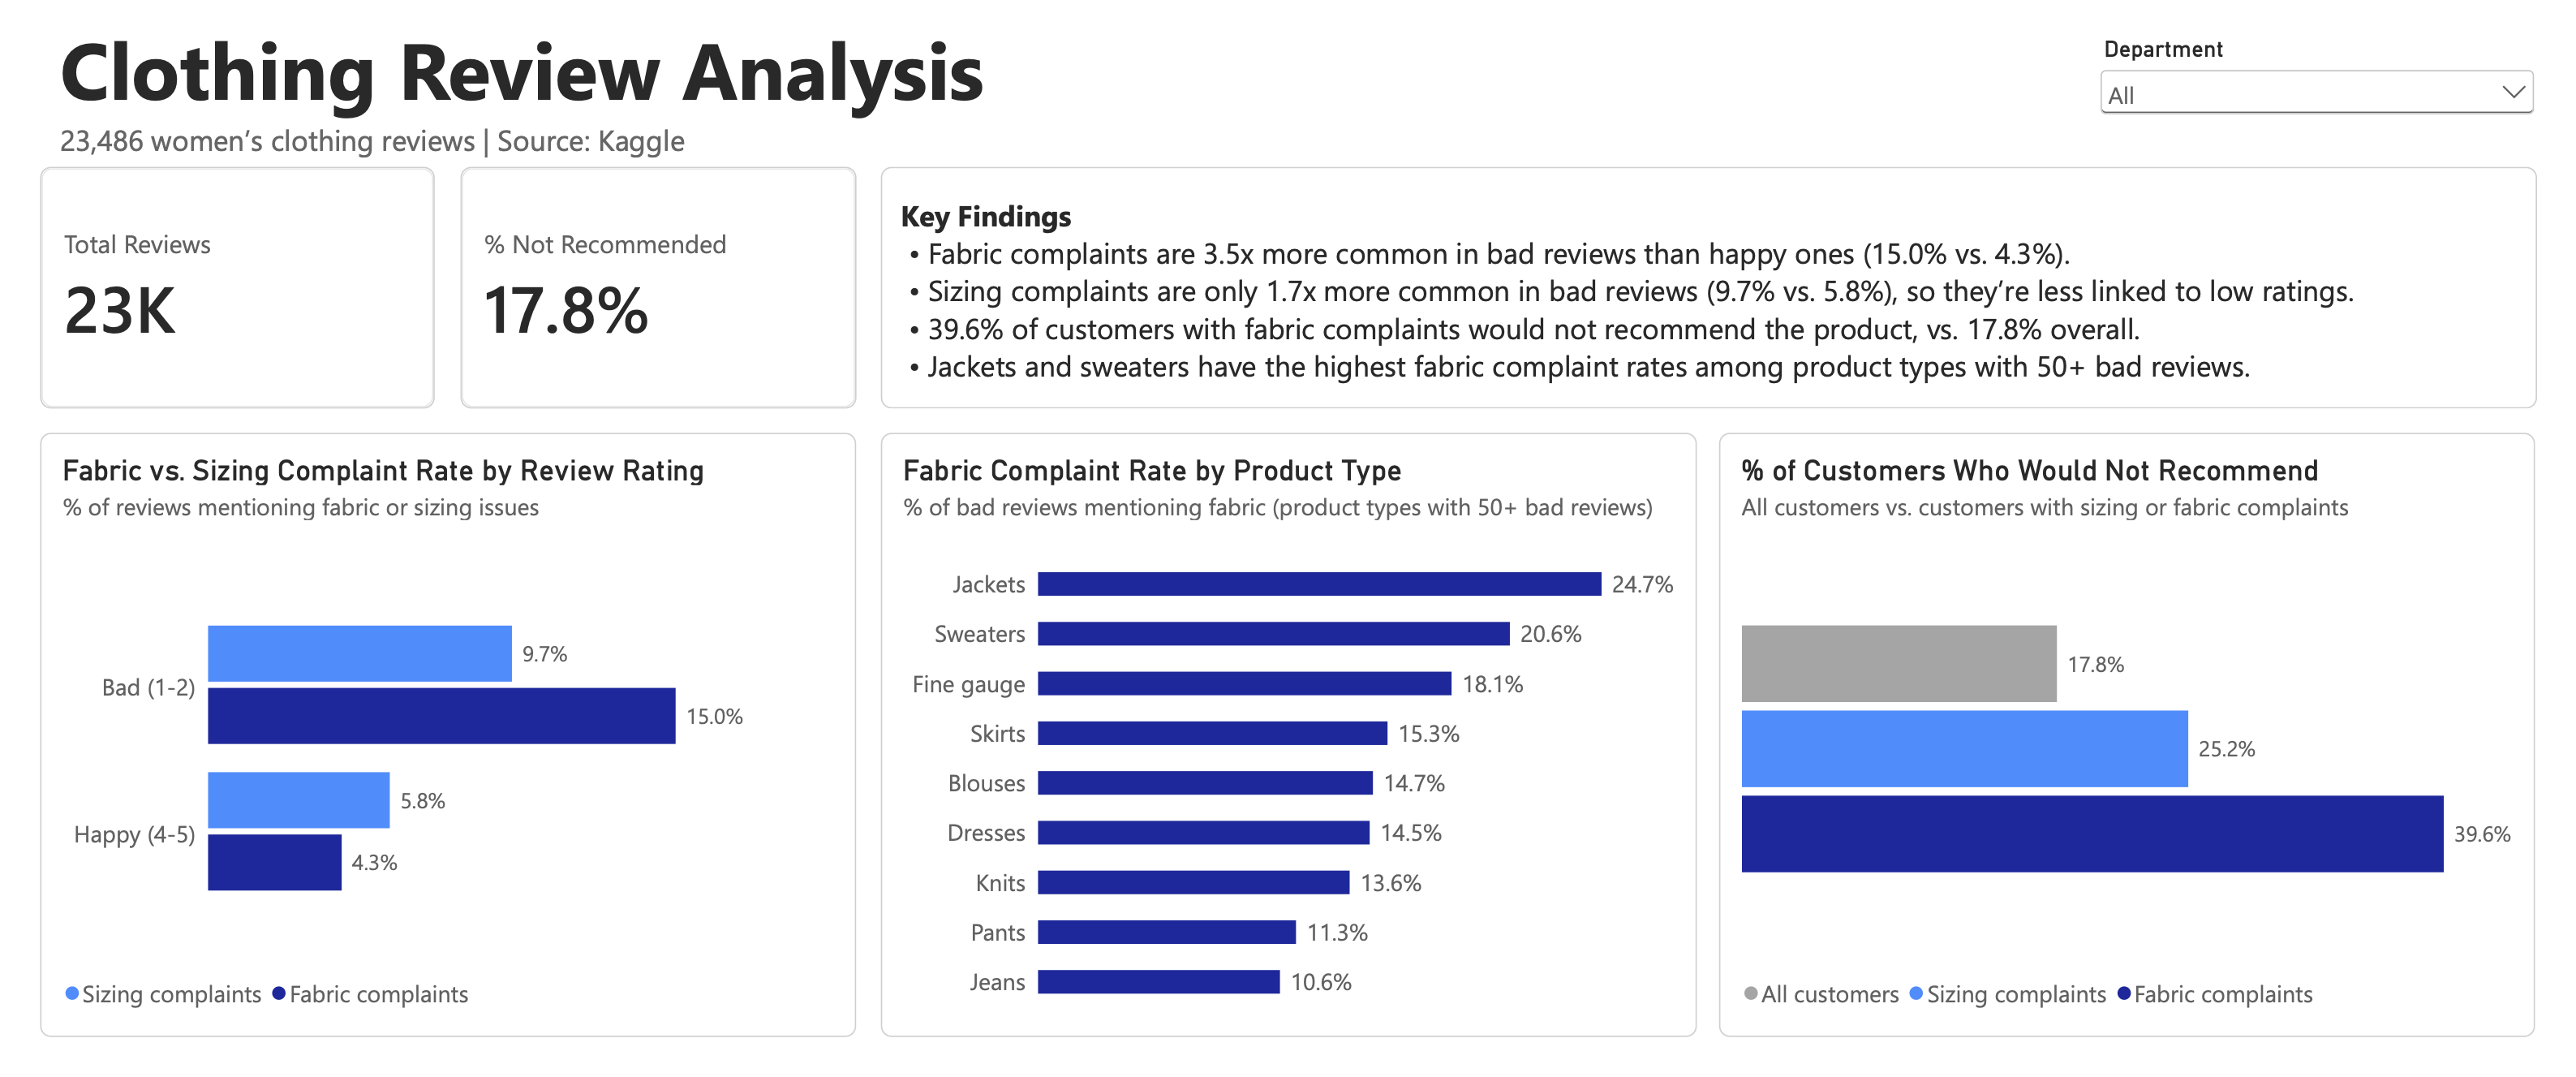

This screenshot's page, from the dashboard's own definition file:
{"tool":"powerbi","page":{"name":"Page 1","canvas":[1920,806],"ordinal":0},"visuals":[{"type":"cardVisual","fields":{"Data":["Reviews.Total Reviews"]},"box":[30,128,300,180],"z":1000},{"type":"cardVisual","fields":{"Data":["Reviews.% Not Recommended"]},"box":[348,128,300,180],"z":2000},{"type":"clusteredBarChart","title":"Fabric vs. Sizing Complaint Rate by Review Rating","fields":{"Category":["Reviews.Rating Group"],"Y":["Reviews.Sizing Complaint Rate","Reviews.Fabric Complaint Rate"]},"box":[30,326,608,450],"z":3000},{"type":"clusteredBarChart","title":"Fabric Complaint Rate by Product Type","fields":{"Category":["Reviews.Class Name"],"Y":["Reviews.Fabric Complaint Rate"]},"box":[656,326,608,450],"z":4000},{"type":"clusteredBarChart","title":"% of Customers Who Would Not Recommend","fields":{"Y":["Reviews.% Not Recommended","Reviews.Not Rec - Sizing Complaints","Reviews.Not Rec - Fabric Complaints"]},"box":[1286,326,608,450],"z":5000},{"type":"slicer","fields":{"Values":["Reviews.Department Name"]},"box":[1560,30,330,75],"z":6000},{"type":"textbox","box":[666,128,1224,180],"z":7000},{"type":"textbox","box":[45,15,1050,110],"z":8000}]}

Visuals, with their boxes in screenshot pixels (x1, y1, x2, y2), scaled from the page's 1920x806 canvas onto the 2576x1077 screenshot:
cardVisual - Reviews.Total Reviews: l=41, t=171, r=443, b=411
cardVisual - Reviews.% Not Recommended: l=467, t=171, r=870, b=411
"Fabric vs. Sizing Complaint Rate by Review Rating" clusteredBarChart: l=41, t=436, r=856, b=1037
"Fabric Complaint Rate by Product Type" clusteredBarChart: l=880, t=436, r=1696, b=1037
"% of Customers Who Would Not Recommend" clusteredBarChart: l=1726, t=436, r=2541, b=1037
slicer - Reviews.Department Name: l=2093, t=40, r=2535, b=140
textbox: l=893, t=171, r=2535, b=411
textbox: l=60, t=20, r=1469, b=167
